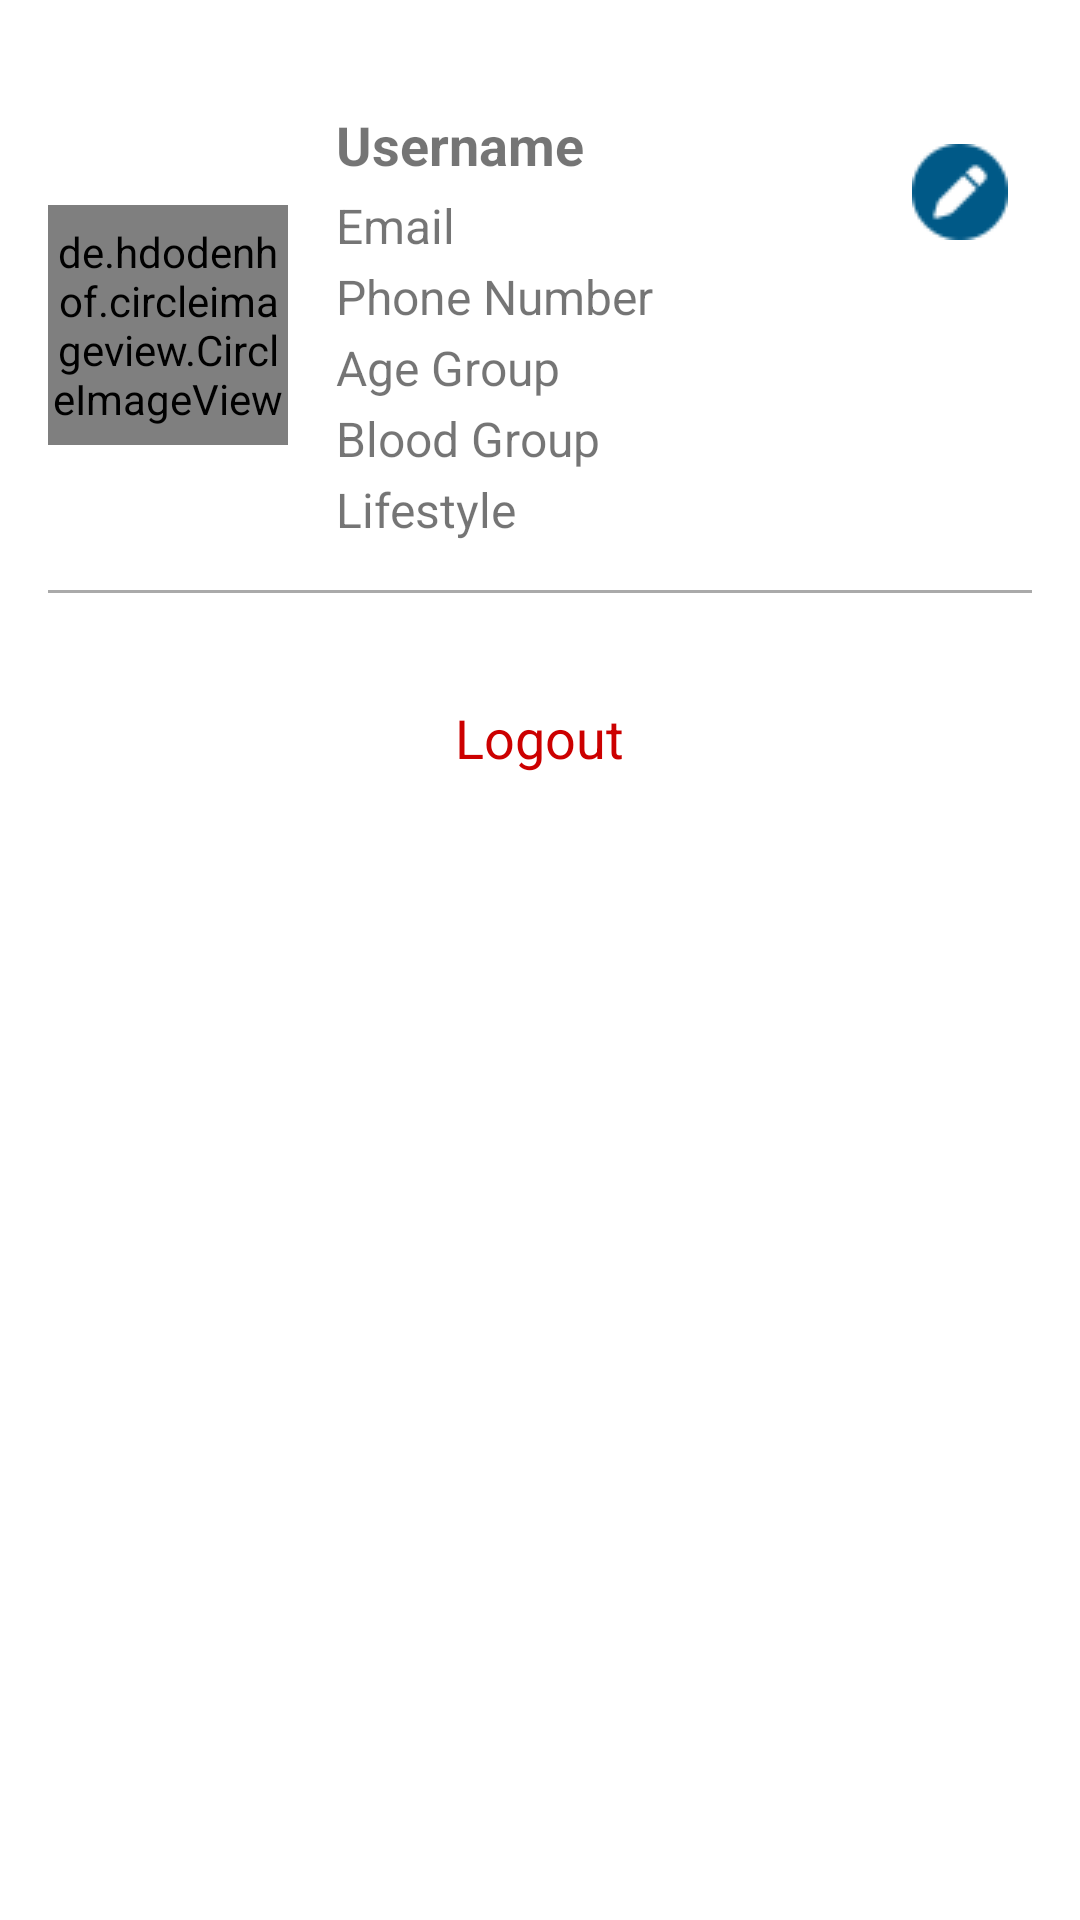

Icon click points for this 1080*1920 phone screenshot, format [x,y]:
Edit Profile: [960,192]
